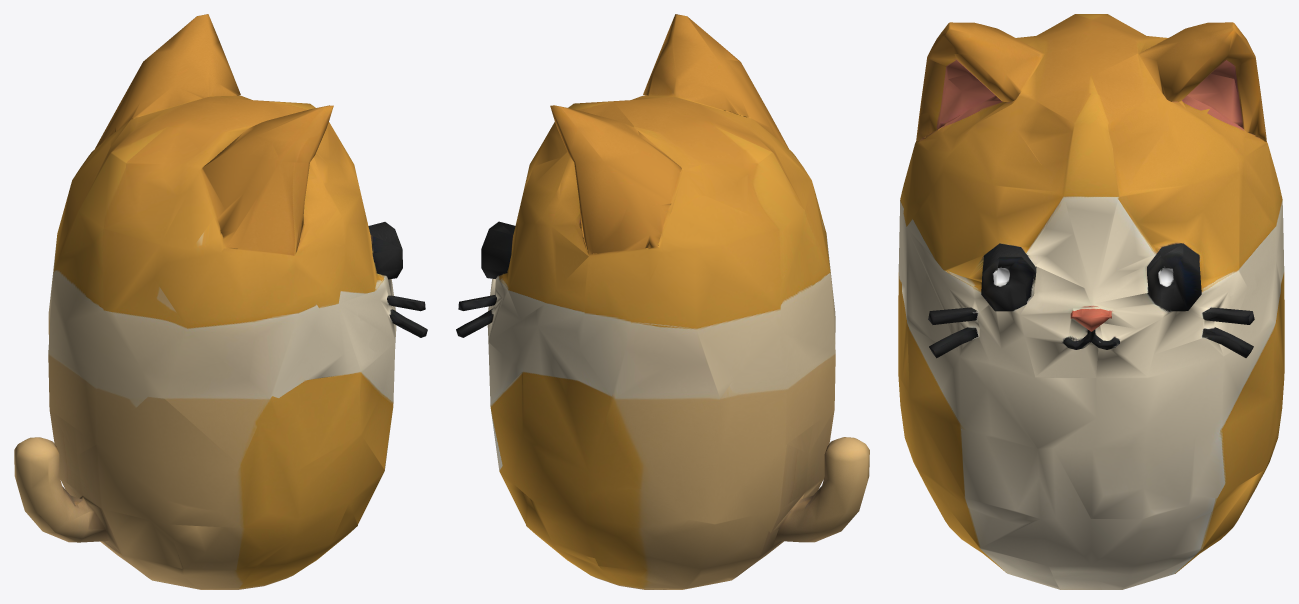
The model's file is cat_v3 1.fbx.
The picture shows the model from 3 angles, left to right: view 1: azimuth 30°, elevation 25°; view 2: azimuth 150°, elevation 25°; view 3: azimuth 270°, elevation 25°; orthographic projection. The views are drawn at different scales.
Parts seen in each view (by area): view 1: tripo_node_5fb6d897; view 2: tripo_node_5fb6d897; view 3: tripo_node_5fb6d897.
Part boxes in pixels (<box>): tripo_node_5fb6d897: <box>14,14,427,589</box>; tripo_node_5fb6d897: <box>456,14,869,589</box>; tripo_node_5fb6d897: <box>898,14,1284,589</box>.
Bounding box in the file's own units: 78.41 × 97.82 × 62.98.
